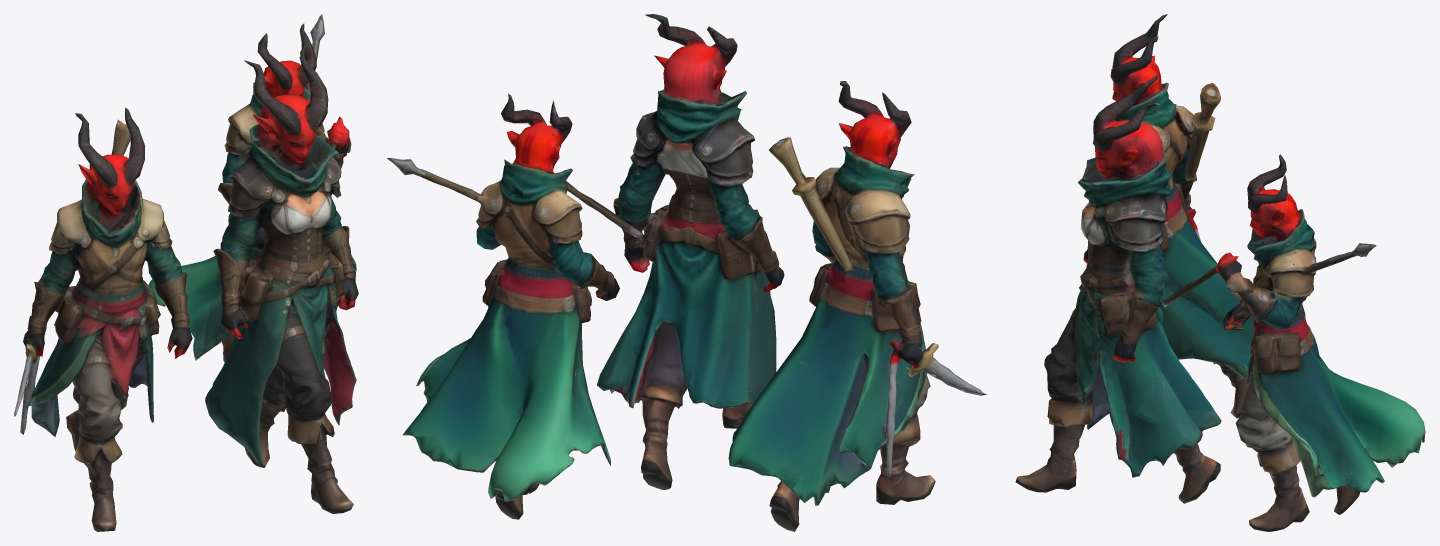
File: Tiefling Troop_final.glb
The picture shows the model from 3 angles, left to right: view 1: azimuth 30°, elevation 25°; view 2: azimuth 150°, elevation 25°; view 3: azimuth 270°, elevation 25°; orthographic projection. The views are drawn at different scales.
Parts seen in each view (by area): view 1: Mesh_0.001; view 2: Mesh_0.001; view 3: Mesh_0.001.
Part boxes in pixels (x1,y1,x2,y2): Mesh_0.001: [14, 14, 358, 531]; Mesh_0.001: [387, 14, 986, 531]; Mesh_0.001: [1015, 14, 1425, 531].
Size of the model in its own units: 1.93 by 1.8 by 1.62.
1 material, 1 textured.
